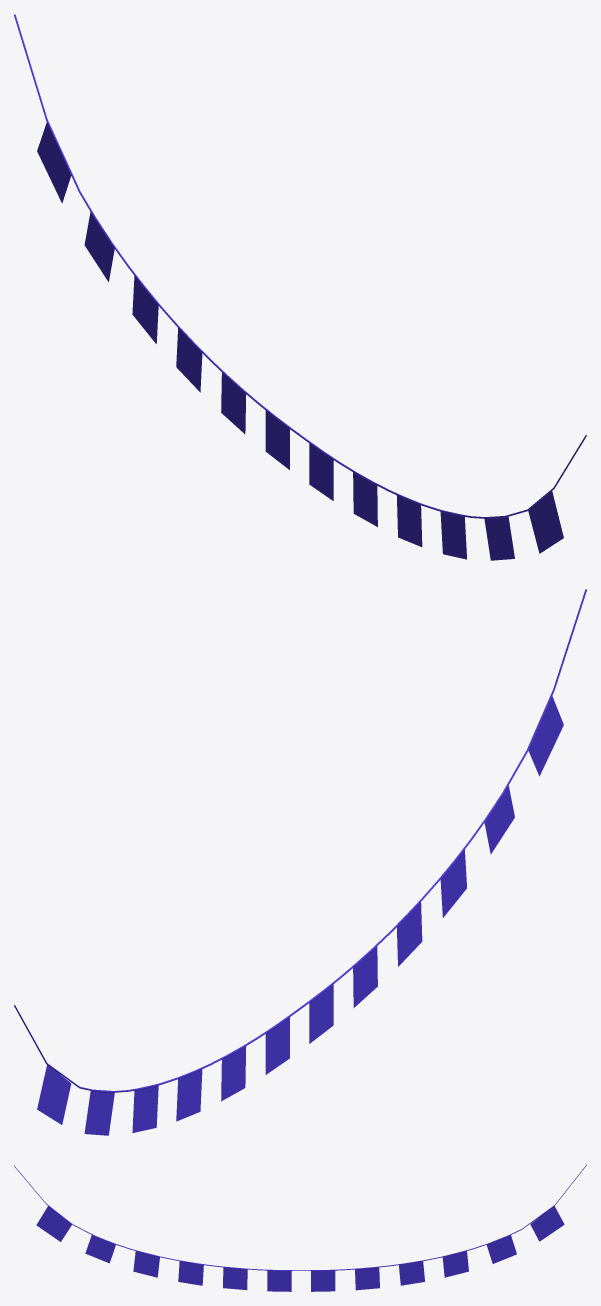
The model's file is drapeaux.fbx.
3 renders of one model, top to bottom at view 1: azimuth 30°, elevation 25°; view 2: azimuth 150°, elevation 25°; view 3: azimuth 270°, elevation 25°, orthographic. The views are drawn at different scales.
Visible parts, largest first — view 1: Cylinder; view 2: Cylinder; view 3: Cylinder.
Boxes of the visible parts, x1=… form: Cylinder: x1=14, y1=14, x2=586, y2=560; Cylinder: x1=14, y1=589, x2=586, y2=1135; Cylinder: x1=14, y1=1164, x2=586, y2=1291.
Bounding box in the file's own units: 7.61 × 1158 × 4707.
